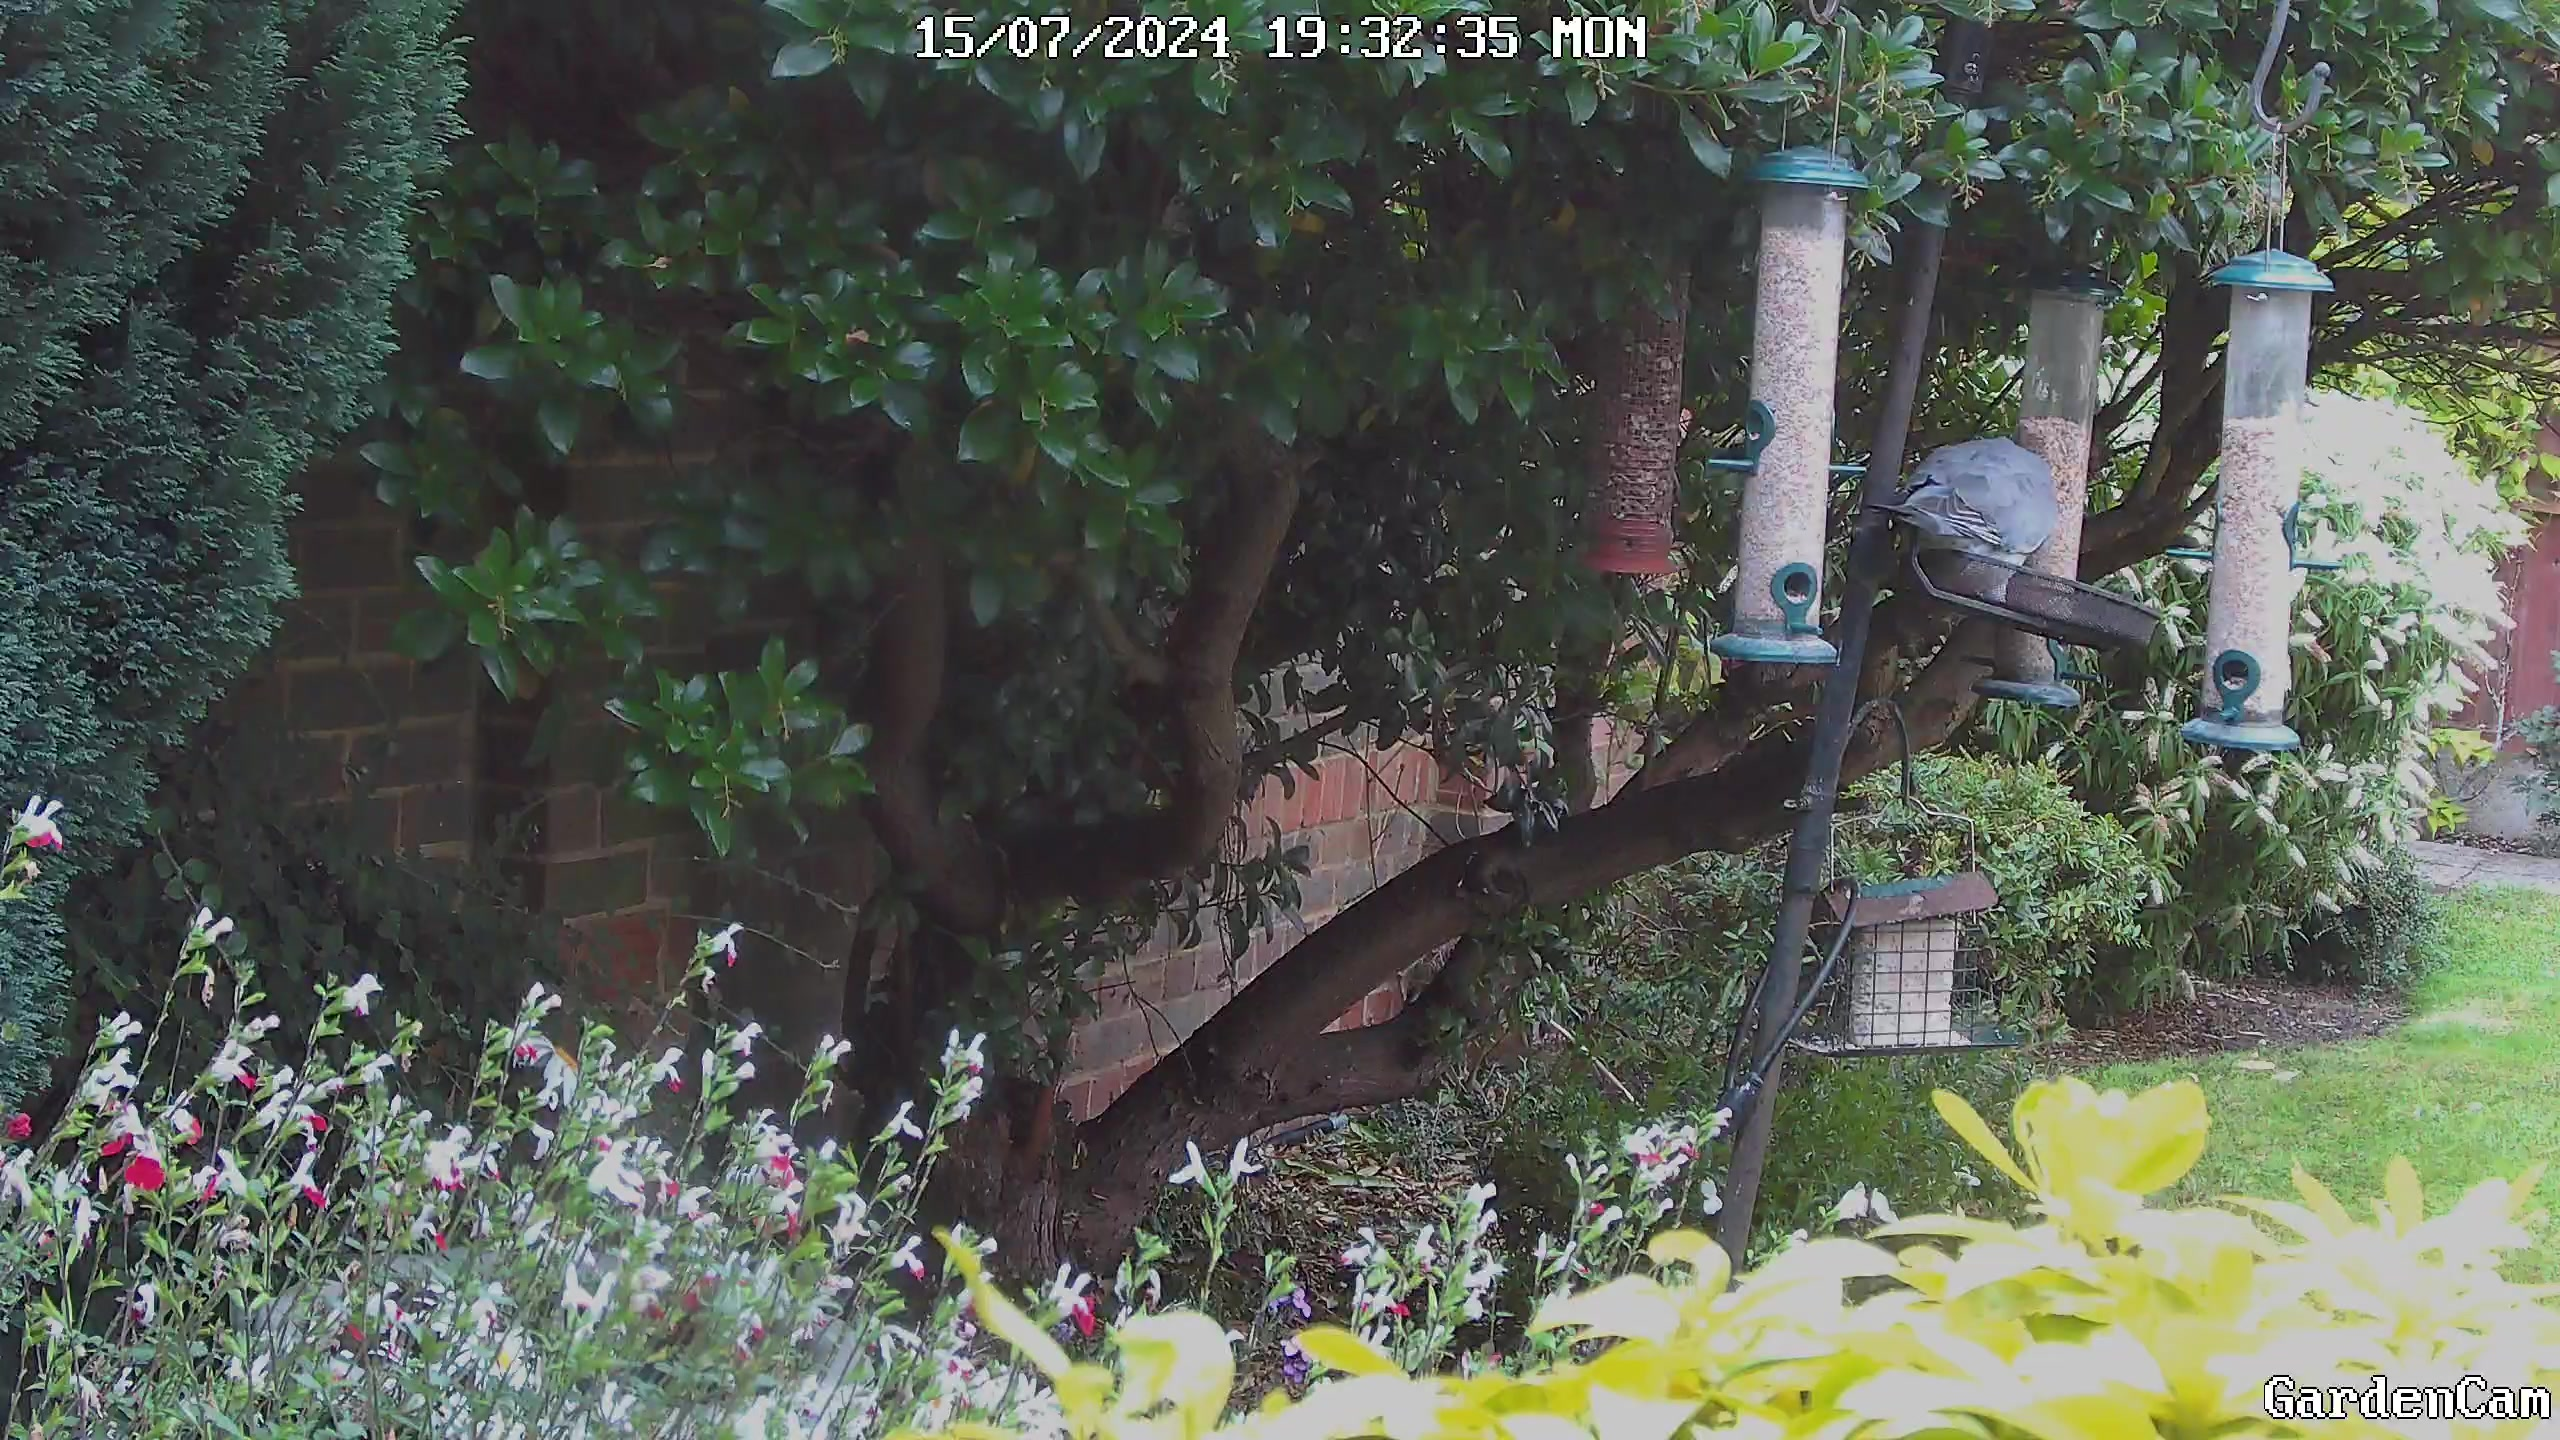Wood_Pigeon: (1851, 411, 2099, 631)
